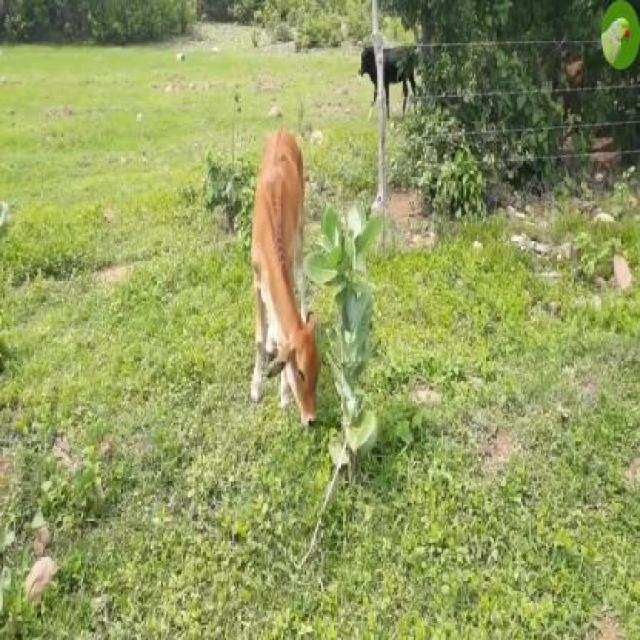Cow: (250, 128, 322, 429)
